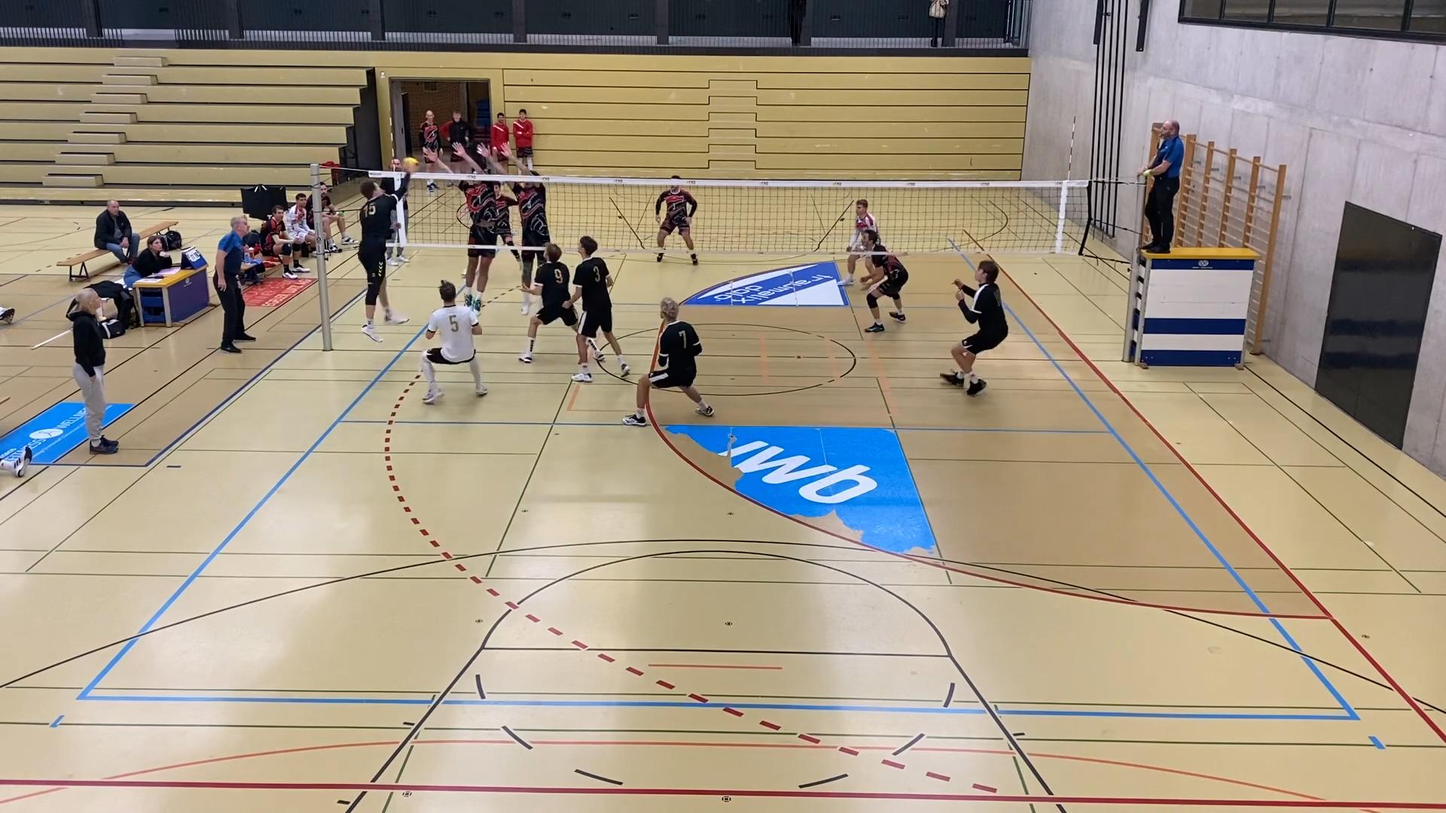Attack: (354, 157, 415, 340)
Block: (428, 137, 493, 322), (483, 141, 553, 289)
Player: (623, 298, 713, 425), (941, 261, 1008, 395), (572, 236, 629, 382), (420, 281, 487, 403), (518, 243, 578, 363), (862, 230, 908, 332), (655, 185, 697, 264), (840, 199, 877, 285), (493, 183, 520, 265)
ball: (401, 157, 420, 171)
